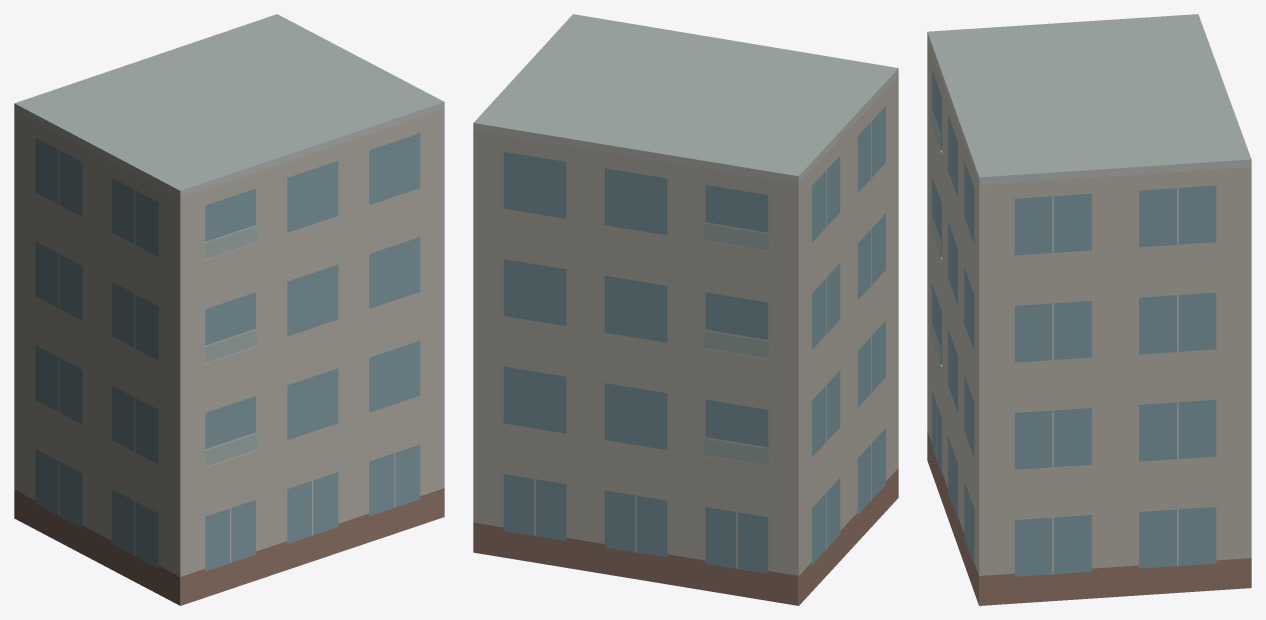
The model's file is survey-upis-32673166.glb.
3 views of the same model, side by side, from view 1: azimuth 30°, elevation 25°; view 2: azimuth 150°, elevation 25°; view 3: azimuth 270°, elevation 25° (orthographic). The views are drawn at different scales.
Visible parts, largest first — view 1: survey-upis-32673166.tmp; view 2: survey-upis-32673166.tmp; view 3: survey-upis-32673166.tmp.
Part boxes in pixels (x1,y1,x2,y2): survey-upis-32673166.tmp: (14, 14, 444, 605); survey-upis-32673166.tmp: (473, 14, 898, 605); survey-upis-32673166.tmp: (927, 14, 1251, 605).
Size of the model in its own units: 11.38 by 13.9 by 9.54.
